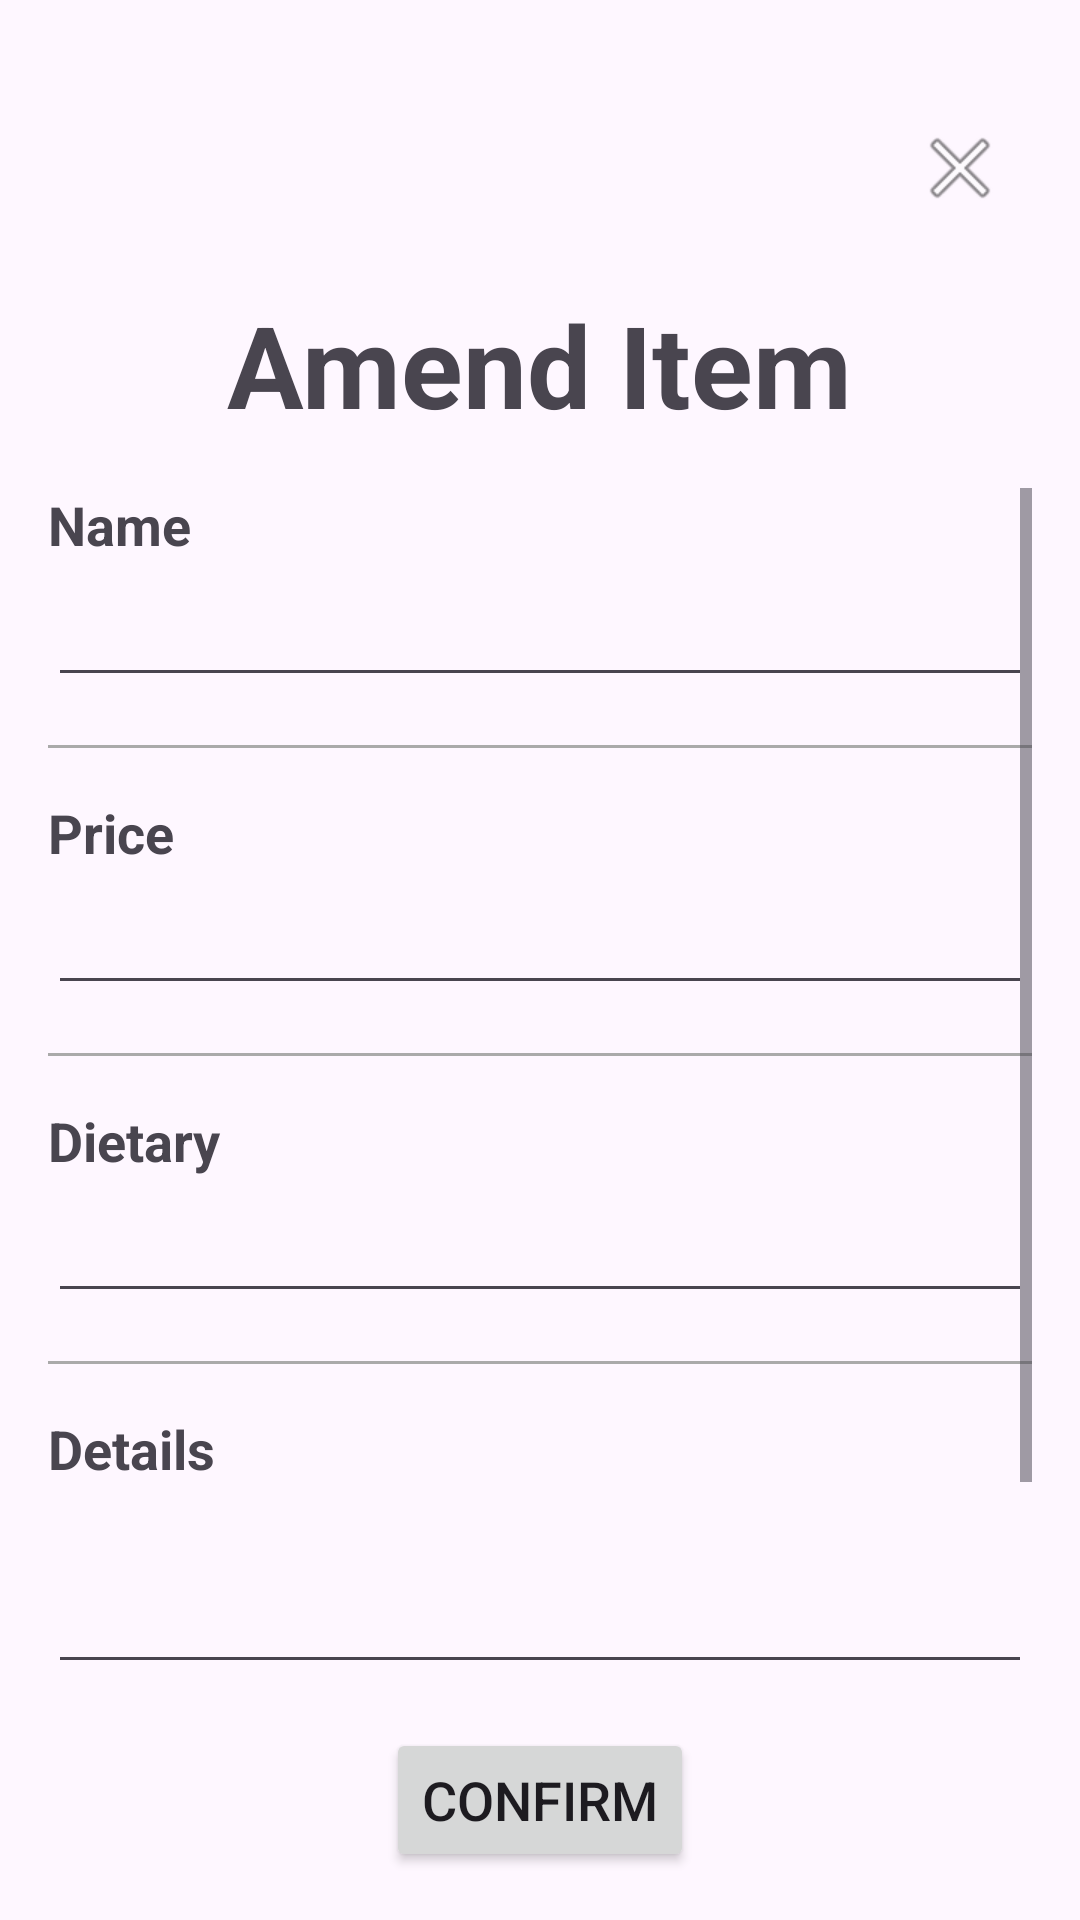

Where icons sit on this 1080w x 1920h app screen, as bbox(x1, y1, x2, y2):
close clear cancel: bbox(930, 138, 990, 198)
